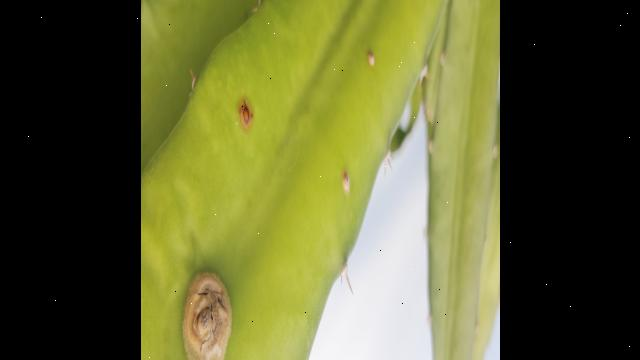stemcanker: (236, 92, 256, 133), (362, 45, 383, 80), (339, 166, 354, 198)
